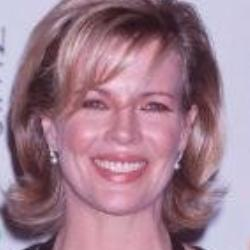face: (2, 3, 228, 245)
